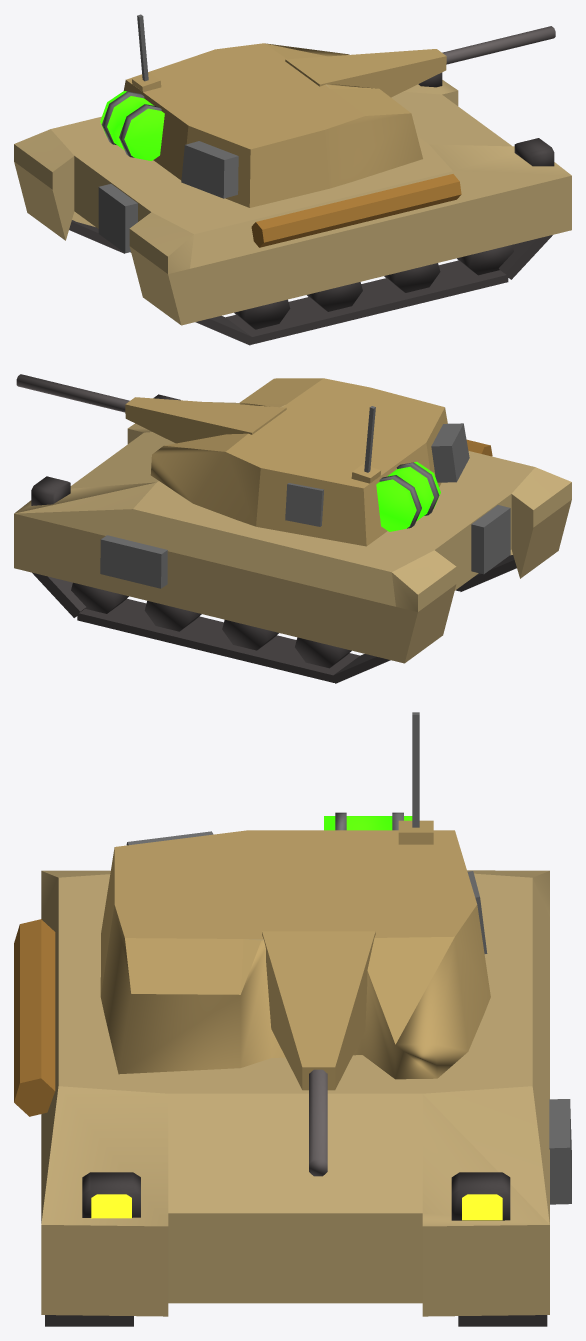
The model's file is bradley.glb.
The picture shows the model from 3 angles, top to bottom: view 1: azimuth 30°, elevation 25°; view 2: azimuth 150°, elevation 25°; view 3: azimuth 270°, elevation 25°; orthographic projection. The views are drawn at different scales.
Visible parts, largest first — view 1: hull, turret, gun; view 2: hull, turret, gun; view 3: hull, turret, gun.
Boxes of the visible parts, left/top/right/bottom form: hull: left=14, top=72, right=571, bottom=345; turret: left=100, top=14, right=446, bottom=207; gun: left=442, top=26, right=555, bottom=64; hull: left=14, top=394, right=571, bottom=683; turret: left=125, top=378, right=469, bottom=546; gun: left=16, top=374, right=129, bottom=412; hull: left=14, top=870, right=571, bottom=1326; turret: left=100, top=712, right=490, bottom=1090; gun: left=309, top=1069, right=327, bottom=1176.
Size of what is drawn, in the model's own units: 6.27 by 3.16 by 3.92.
